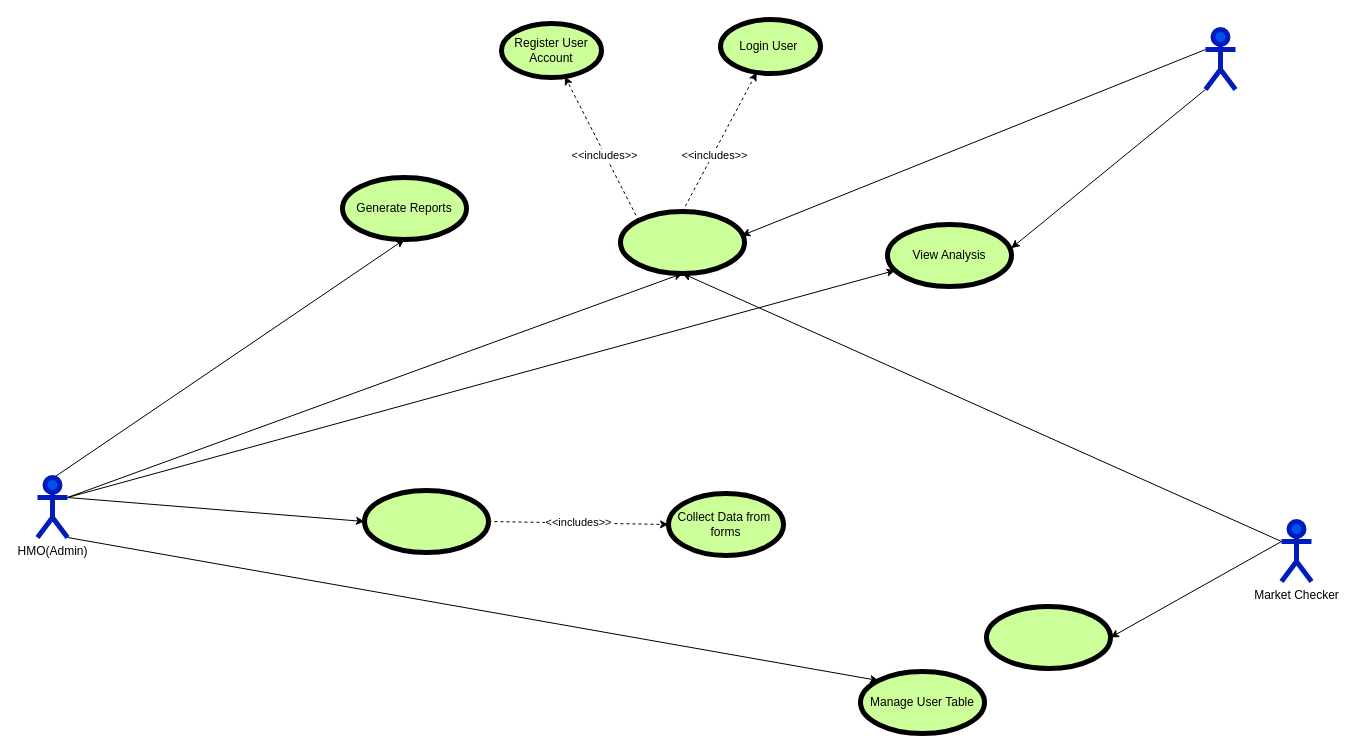
Image size: 1356x753. Some labels were removed from this diagram. The centre of each missing label's shape, as x and y in pixels:
"Input Data on Market Checking Form" goes at (x=1048, y=637).
"IsdaanIS Web Application" goes at (x=682, y=242).
"Manage Market Checking History" goes at (x=426, y=521).
"Port Manager" goes at (x=1220, y=59).
